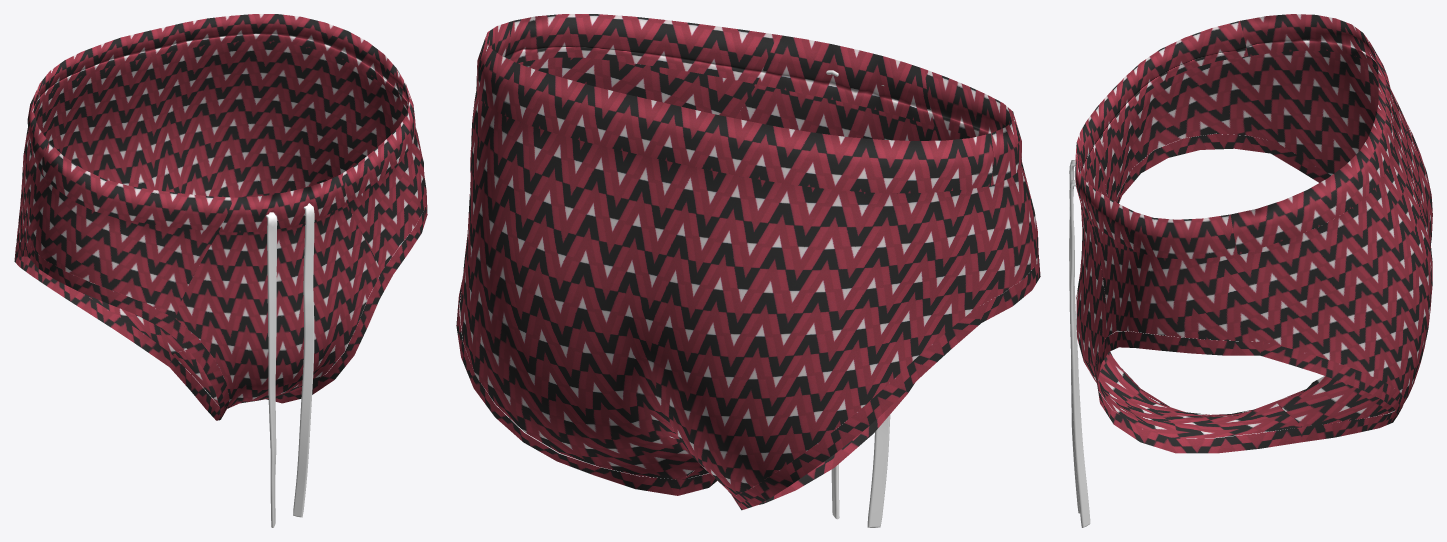
Rendered from SwimBrief_thin_color_texture.glb.
The picture shows the model from 3 angles, left to right: view 1: azimuth 30°, elevation 25°; view 2: azimuth 150°, elevation 25°; view 3: azimuth 270°, elevation 25°; orthographic projection. The views are drawn at different scales.
Visible parts, largest first — view 1: Cloth, Trim; view 2: Cloth, Trim; view 3: Cloth, Trim.
Part boxes in pixels (box(x1,y1,x2,y2)): Cloth: box(14, 14, 427, 420); Trim: box(266, 203, 314, 527); Cloth: box(456, 14, 1040, 510); Trim: box(826, 70, 890, 527); Cloth: box(1075, 14, 1432, 453); Trim: box(1069, 159, 1090, 527).
Bounding box in the file's own units: 34.43 × 35.19 × 26.4.
18 materials, 16 textured.
